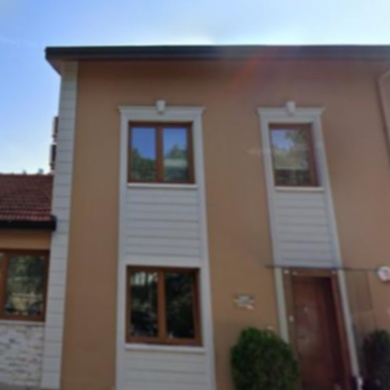door: (294, 279, 337, 390)
